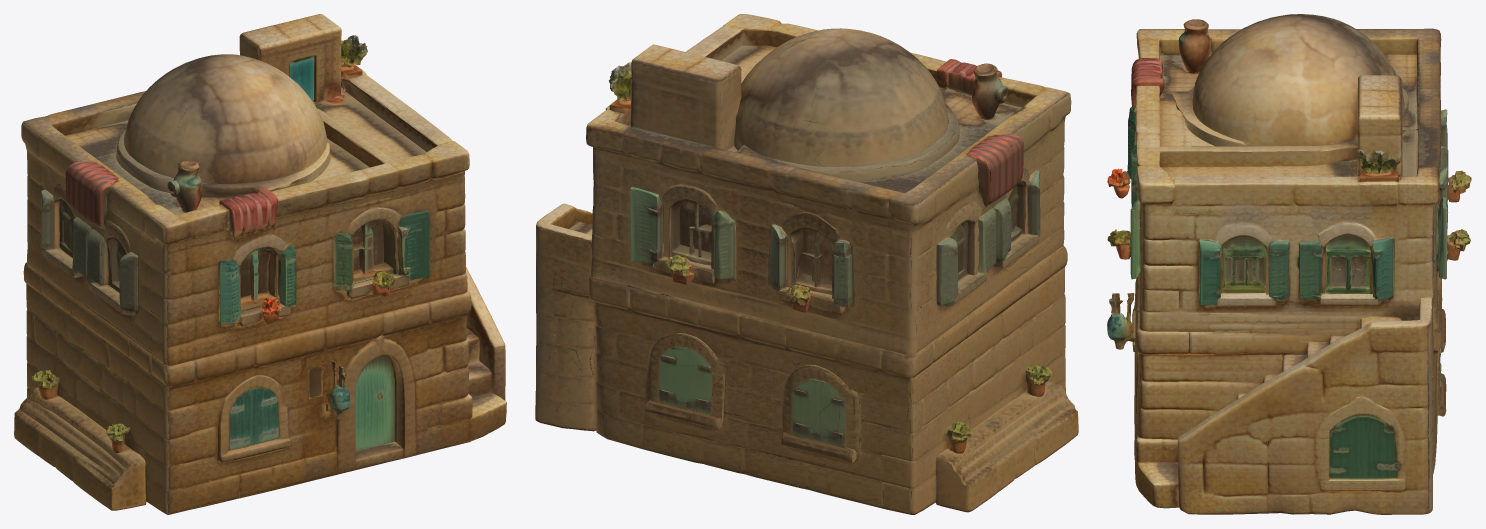
File: bld_arab_stone_house.glb
3 views of the same model, side by side, from view 1: azimuth 30°, elevation 25°; view 2: azimuth 150°, elevation 25°; view 3: azimuth 270°, elevation 25° (orthographic). The views are drawn at different scales.
Visible parts, largest first — view 1: geometry_0; view 2: geometry_0; view 3: geometry_0.
Boxes of the visible parts, bbox=[...] form: geometry_0: bbox=[14, 14, 506, 514]; geometry_0: bbox=[535, 14, 1078, 514]; geometry_0: bbox=[1107, 14, 1471, 514].
Bounding box in the file's own units: 10.11 × 9 × 7.78.
1 material, 1 textured.
